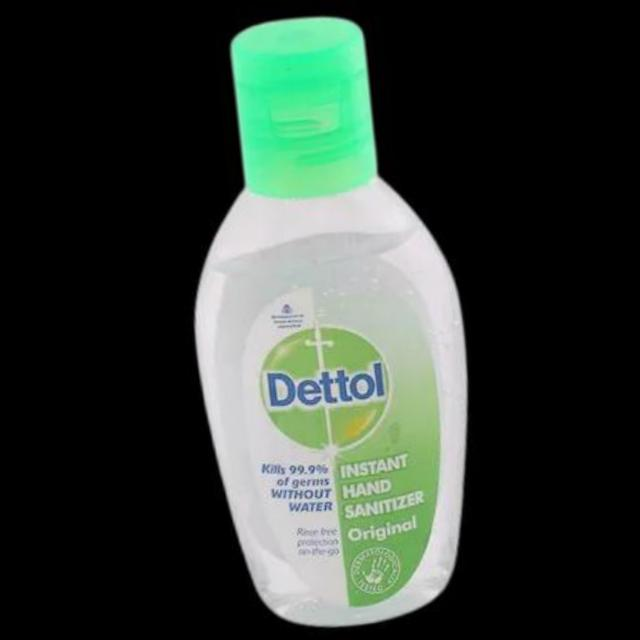Dettol Original Instant Hand Sanitizer 50 ml: (168, 0, 496, 640)
